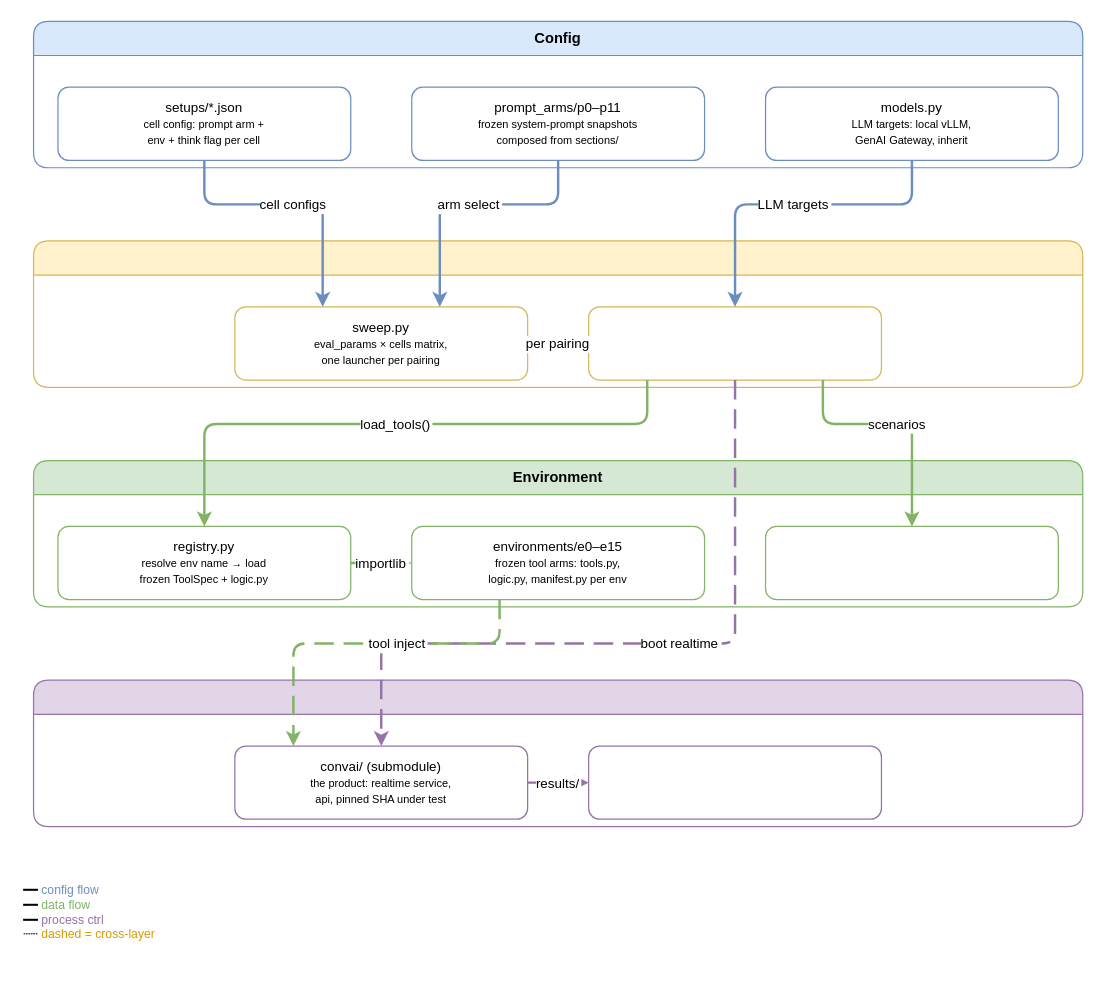
This 1104x982 diagram has some shape labels left out. Each missing label, with the box of its shape:
datasets/ prompts + scenarios: lab_prompts, harvest_tool_200: (764, 525, 1058, 600)
Orchestration: (32, 240, 1083, 387)
Product & View: (32, 679, 1083, 827)
run_ceval.py single-run launcher: boot realtime, invoke ceval, teardown: (587, 306, 881, 380)
view/ inspector.py, ceval_table.py, React webapp: read results: (587, 745, 881, 819)
